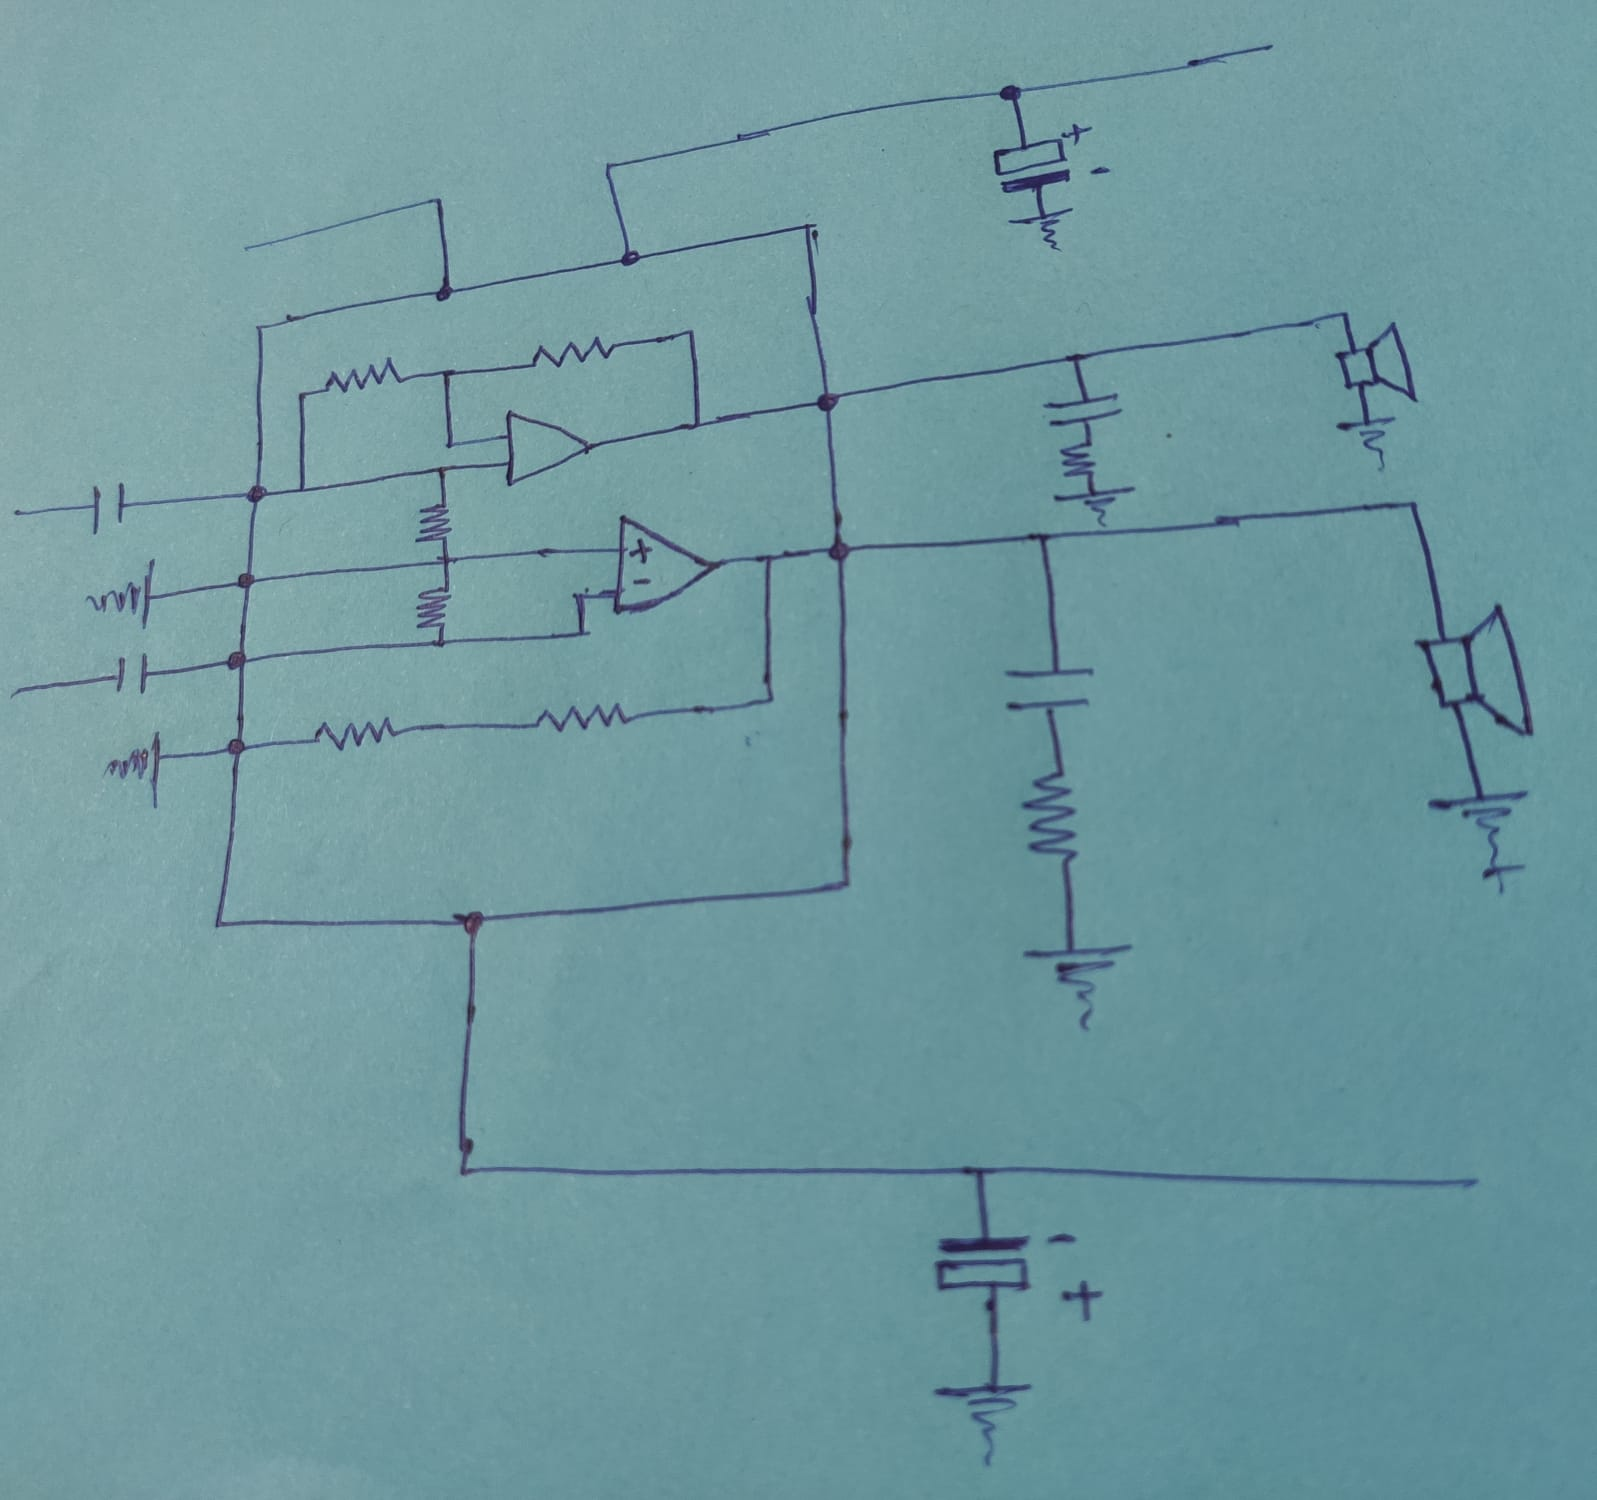capacitor.polarized: (925, 1218, 1105, 1327), (992, 118, 1114, 192)
capacitor.unpolarized: (1004, 660, 1095, 716), (1037, 389, 1125, 427), (86, 475, 130, 534), (103, 654, 159, 696)
gnd: (925, 1373, 1037, 1472), (1425, 784, 1529, 890), (1022, 937, 1135, 1035), (97, 730, 168, 802), (83, 562, 159, 629), (1333, 414, 1397, 472), (1056, 486, 1135, 527), (1013, 210, 1078, 250)
junction: (445, 899, 498, 937), (818, 529, 860, 572), (805, 381, 849, 419), (218, 722, 254, 766), (217, 643, 259, 678), (424, 275, 468, 307), (963, 1150, 998, 1188), (230, 481, 275, 510), (1056, 340, 1097, 372), (608, 245, 651, 272), (991, 80, 1032, 109), (1325, 297, 1357, 330), (227, 568, 264, 596), (827, 867, 858, 898), (448, 1153, 479, 1183), (1028, 527, 1061, 553), (795, 216, 825, 244), (1398, 493, 1428, 520), (756, 685, 782, 712), (756, 548, 784, 572), (204, 909, 228, 936), (685, 414, 710, 438), (434, 362, 460, 386), (678, 321, 702, 345), (567, 588, 591, 610), (426, 190, 450, 213), (598, 156, 622, 179), (428, 461, 451, 484), (440, 433, 461, 454), (290, 386, 312, 407), (569, 623, 593, 641), (292, 479, 313, 499), (436, 553, 457, 570), (249, 321, 269, 338), (431, 634, 450, 651)
operational_amplifier: (606, 510, 722, 620), (498, 405, 595, 489)
resistor: (1018, 768, 1084, 868), (306, 711, 405, 753), (312, 354, 405, 395), (536, 699, 637, 734), (524, 334, 619, 367), (412, 575, 457, 634), (406, 498, 452, 548), (1056, 434, 1099, 484)
speaker: (1417, 605, 1534, 740), (1338, 319, 1417, 399)
terminal: (1449, 1163, 1490, 1203), (1254, 35, 1285, 59), (6, 500, 35, 524), (1, 680, 31, 702), (235, 238, 262, 257)
